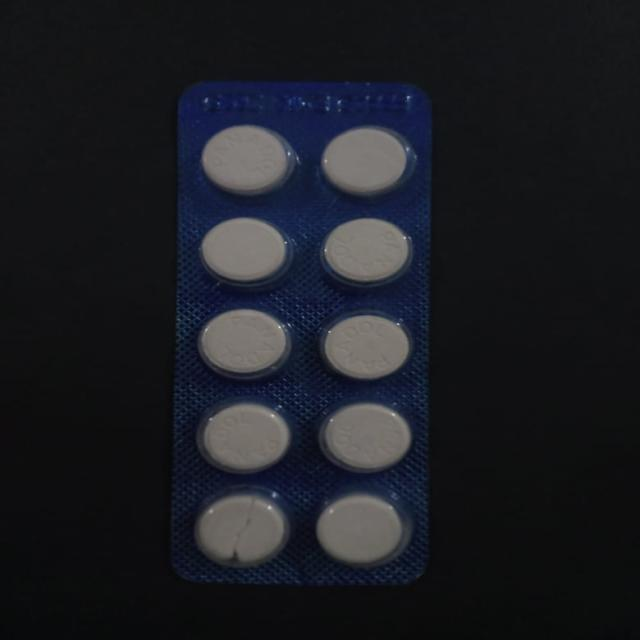defect: (191, 484, 296, 574)
